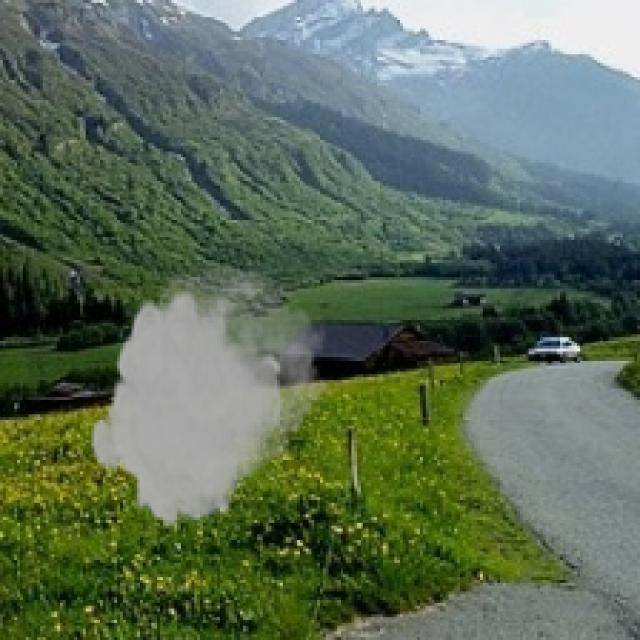Smoke: (88, 268, 334, 532)
